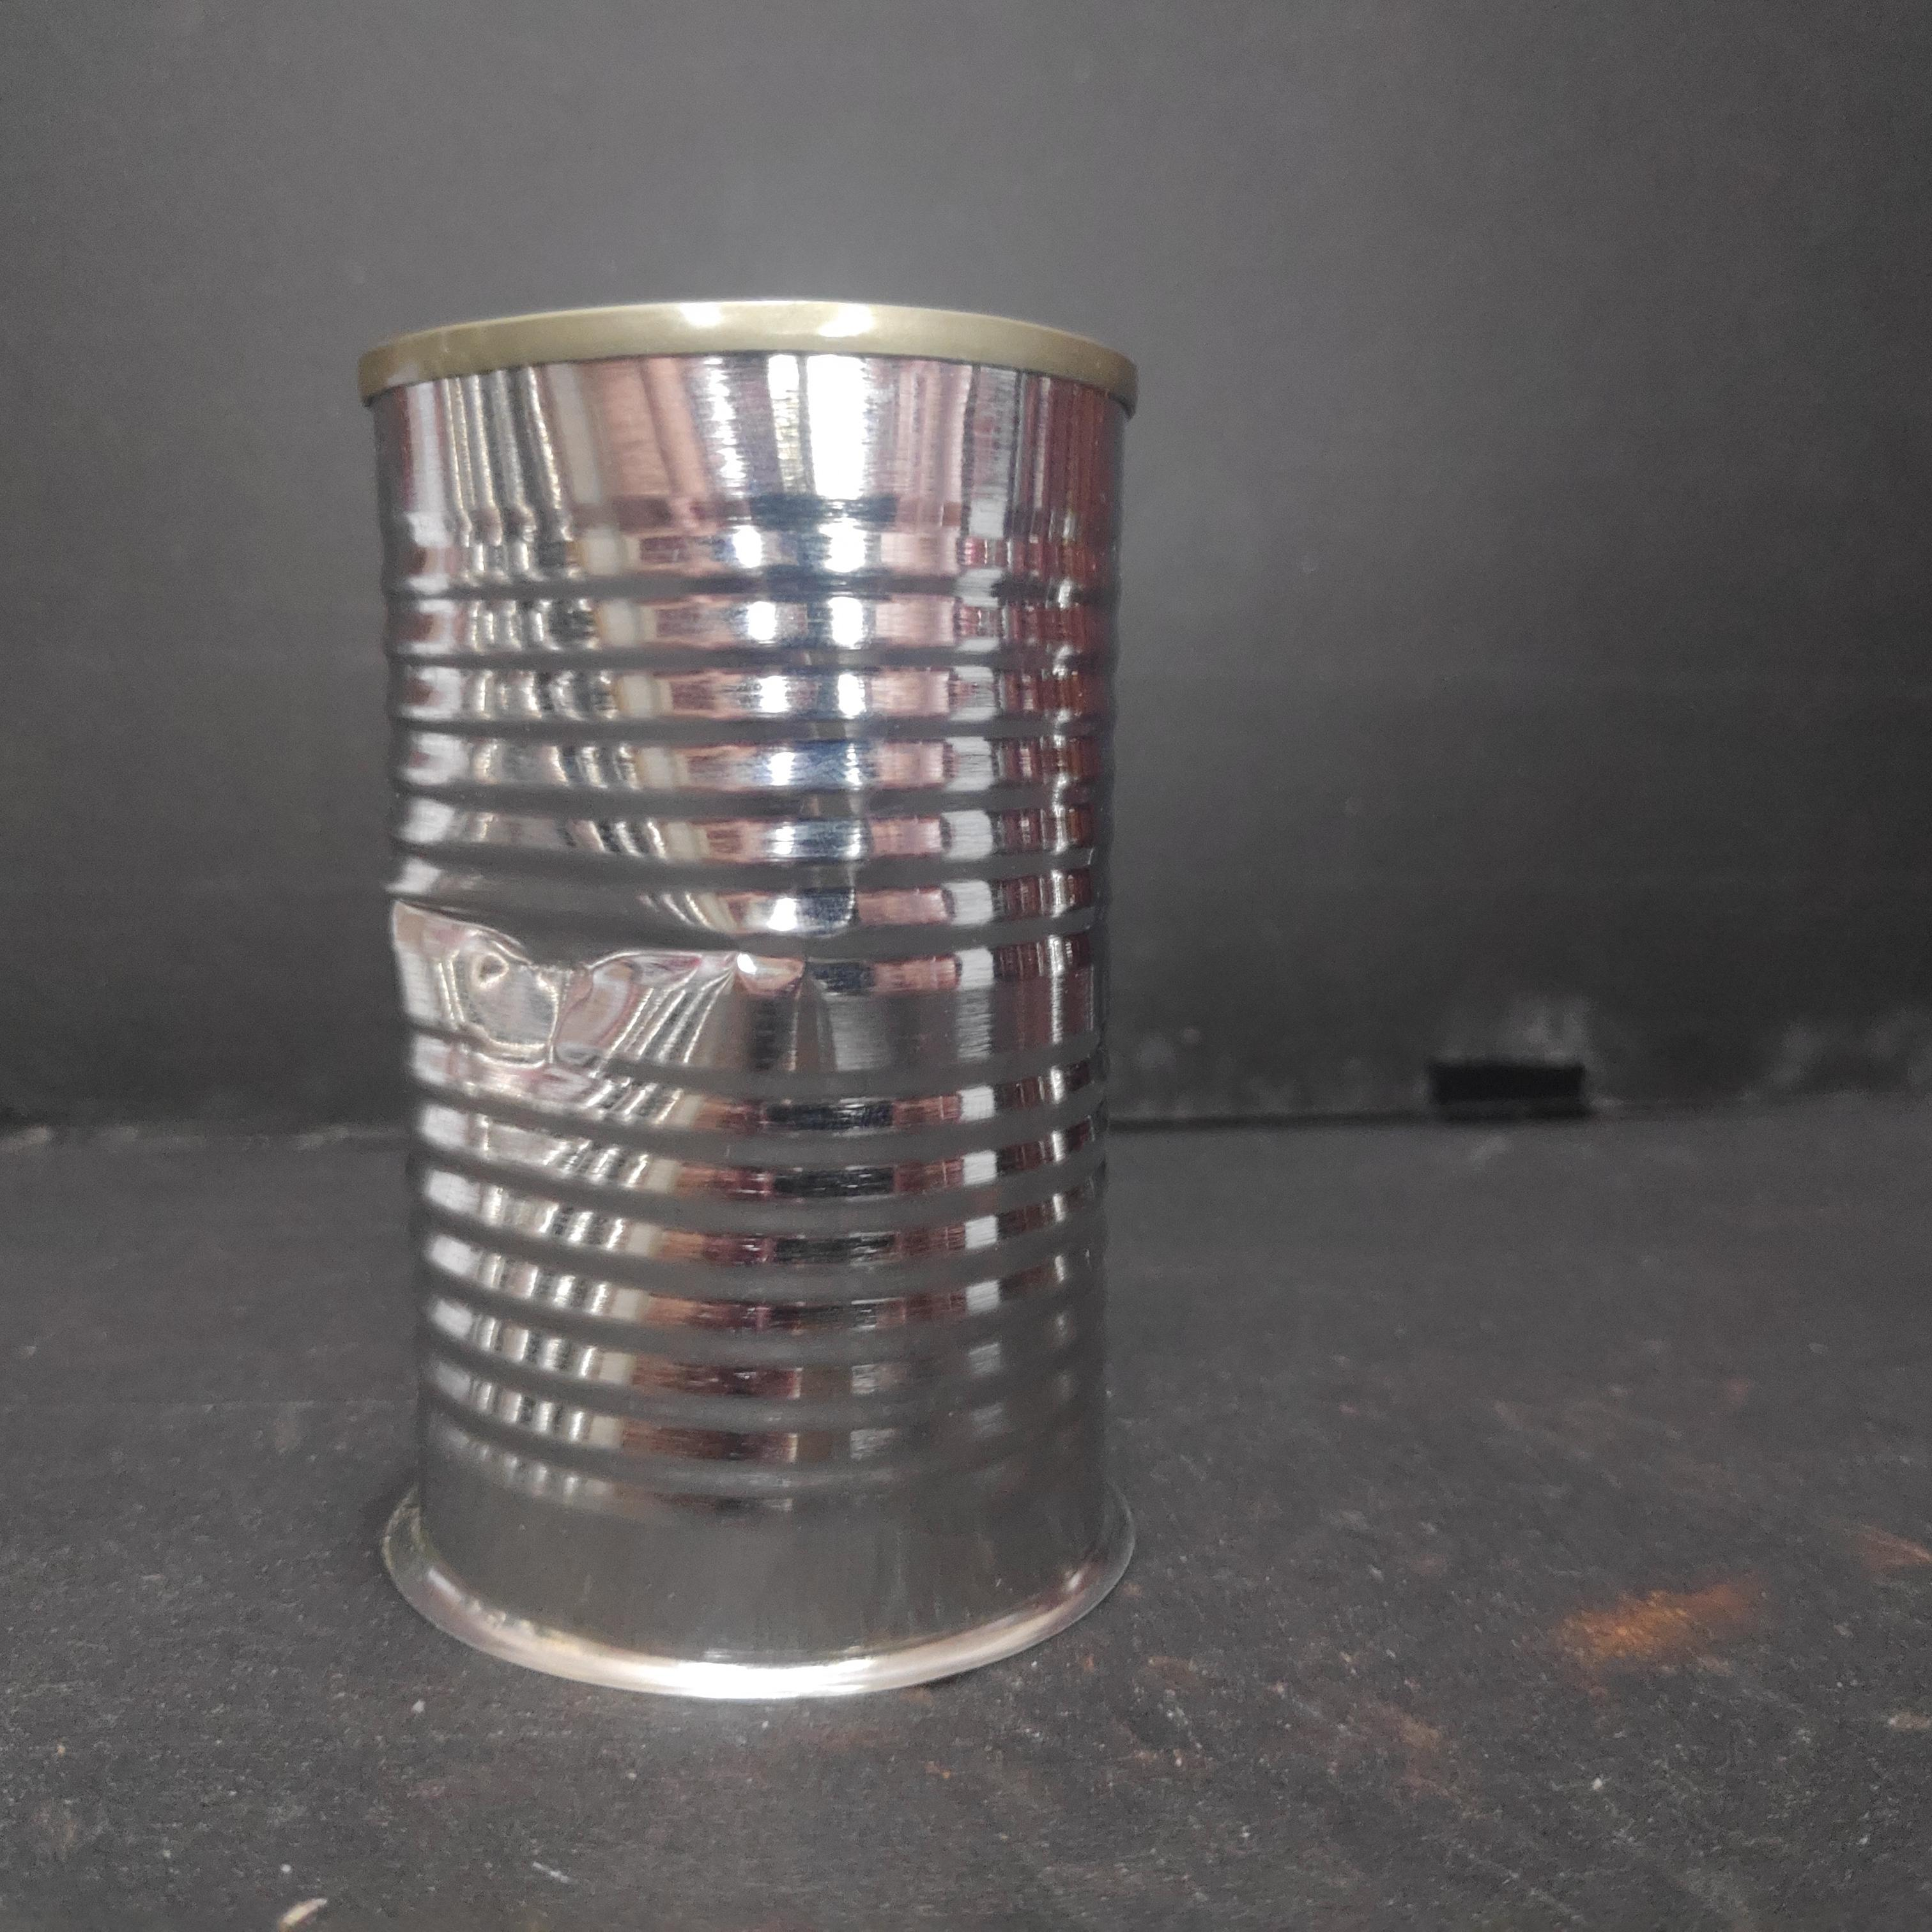Minor Defect: (349, 295, 1148, 1718)
